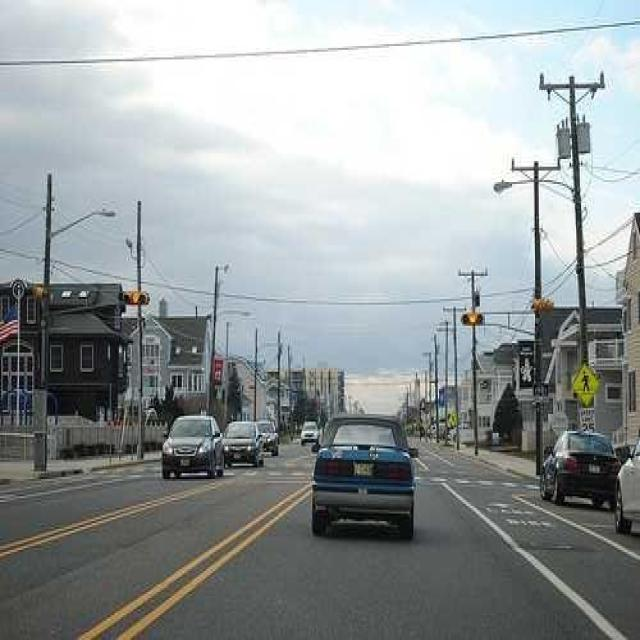Traffic Light -Yellow-: (460, 307, 485, 330)
